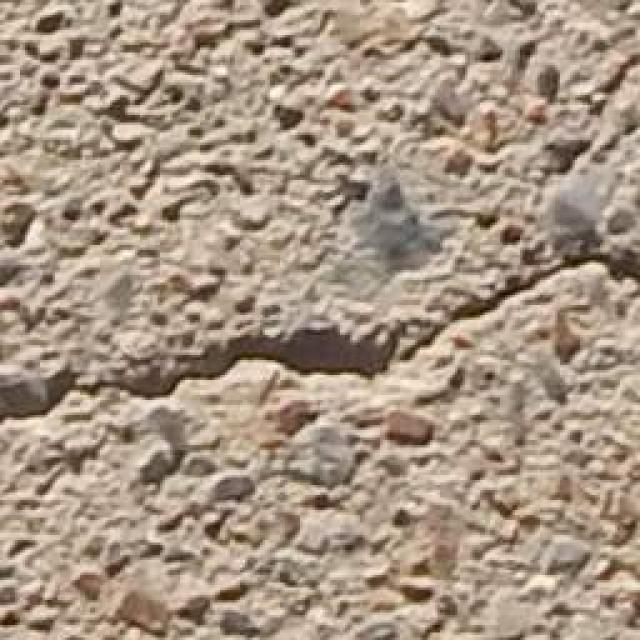concrete-crack: (0, 246, 638, 432)
